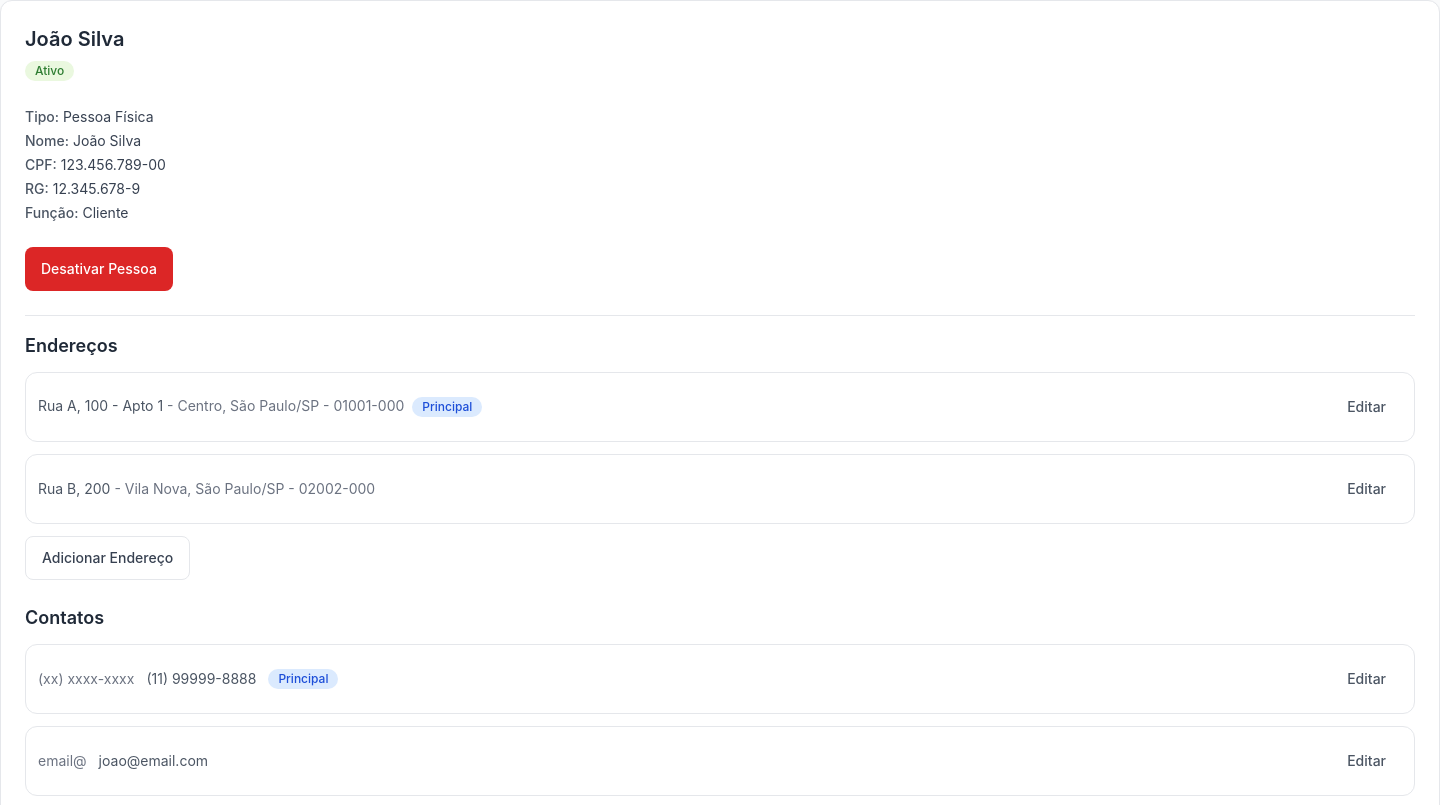
Test case: PersonDetailPage › shows deactivate confirmation dialog
This screenshot has width=1440, height=805.
Click the button with test id "deactivate-btn": (99, 269) 25,247 -> 173,291
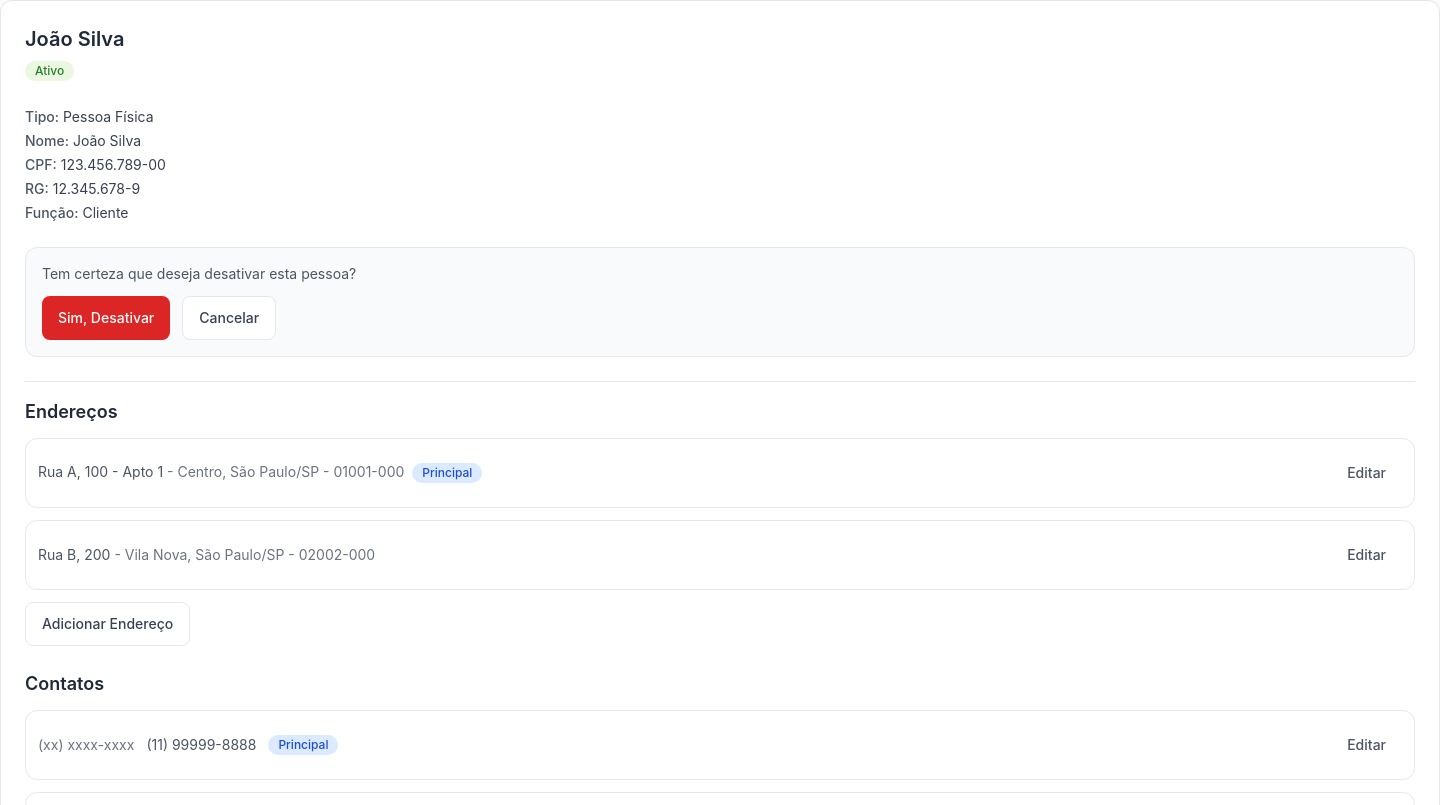
Check: the element with test id "deactivate-confirm" is shown, box 25,247 -> 1415,357
